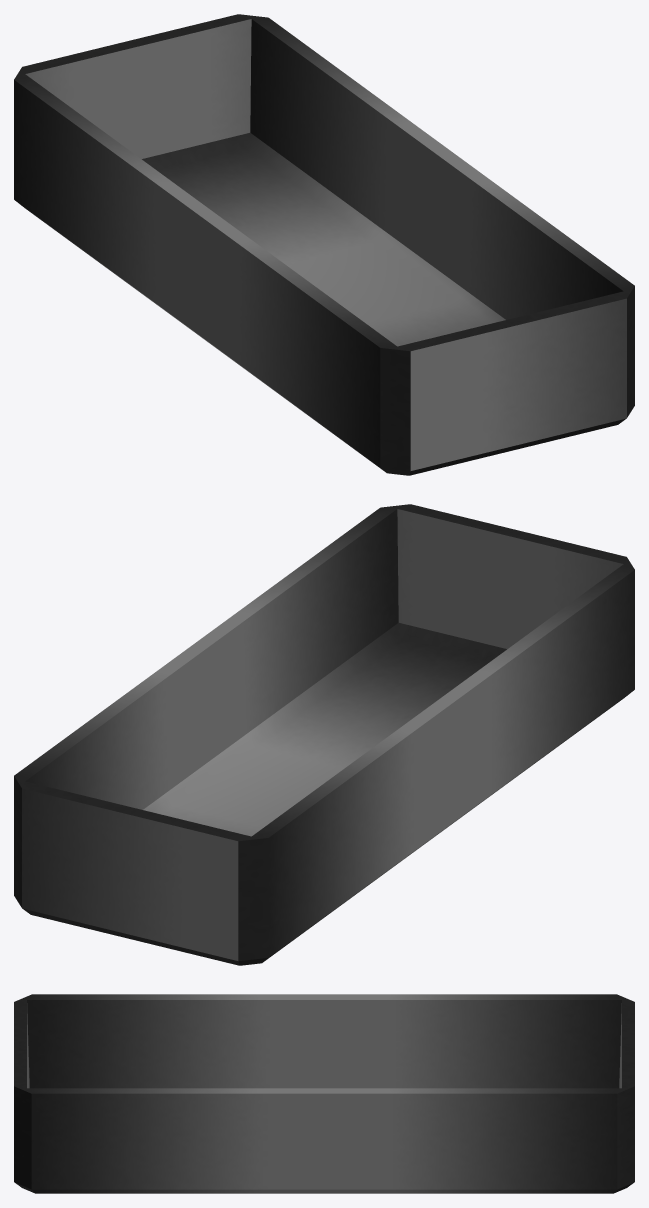
Rendered from Bread Pan A.FBX.
The picture shows the model from 3 angles, top to bottom: view 1: azimuth 30°, elevation 25°; view 2: azimuth 150°, elevation 25°; view 3: azimuth 270°, elevation 25°; orthographic projection. The views are drawn at different scales.
Visible parts, largest first — view 1: Bread Pan; view 2: Bread Pan; view 3: Bread Pan.
Part boxes in pixels (left/top/right/bottom): Bread Pan: left=14, top=14, right=634, bottom=475; Bread Pan: left=14, top=504, right=634, bottom=965; Bread Pan: left=14, top=994, right=634, bottom=1193.
Size of the model in its own units: 77.58 by 37.59 by 205.
